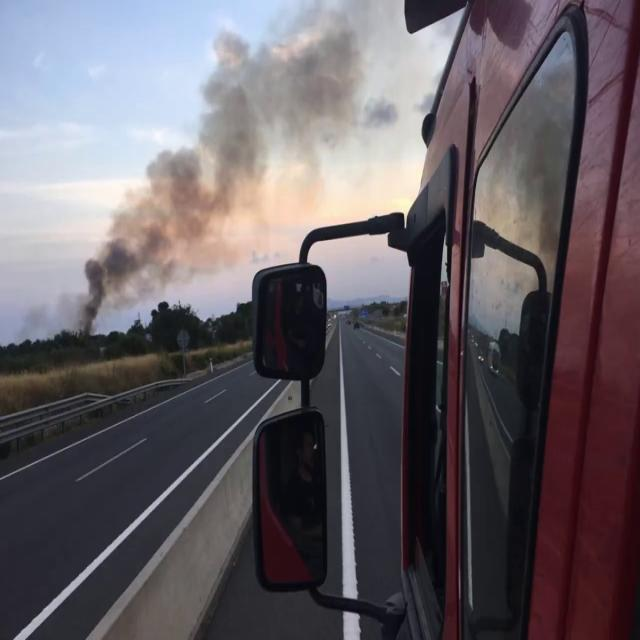Smoke: (76, 9, 364, 334)
